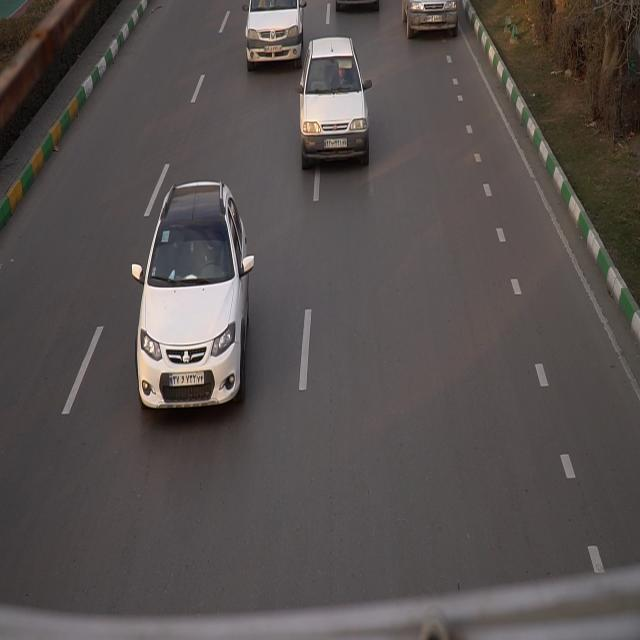car: (132, 178, 255, 410), (297, 33, 375, 167), (242, 0, 308, 73), (400, 3, 460, 38)
